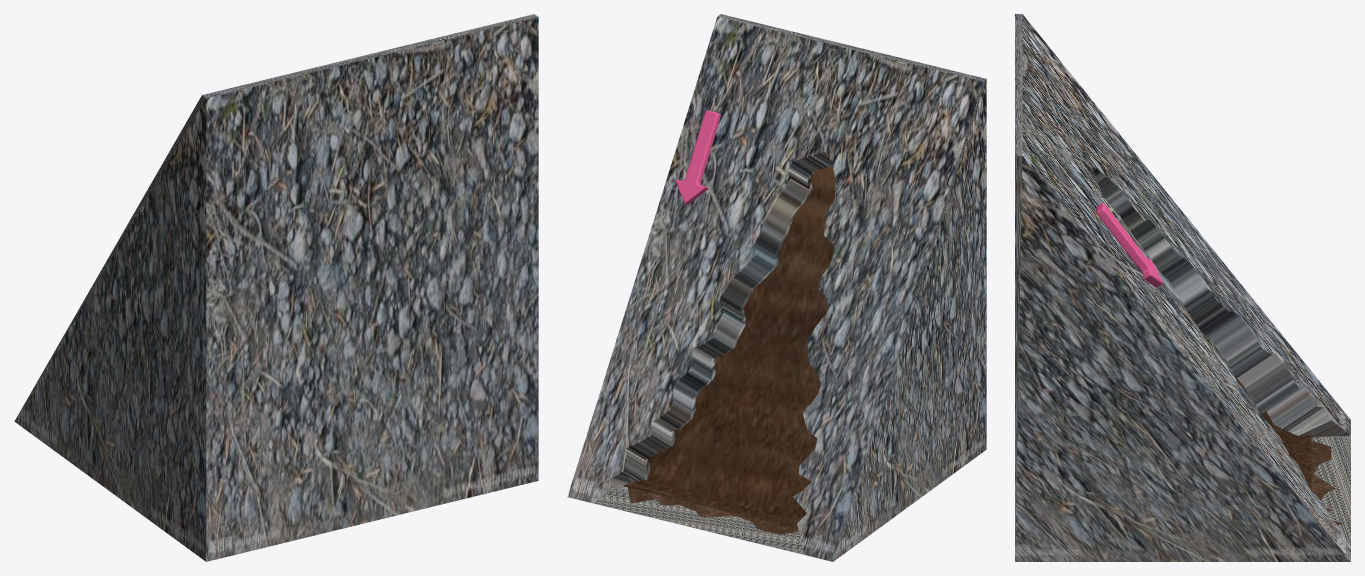
The model's file is 山坡型泥石流.gltf.
The picture shows the model from 3 angles, left to right: view 1: azimuth 30°, elevation 25°; view 2: azimuth 150°, elevation 25°; view 3: azimuth 270°, elevation 25°; orthographic projection. The views are drawn at different scales.
Parts seen in each view (by area): view 1: node_Box001_-67610; view 2: node_Box001_-67610, node_001_-67612, node_arrow_1_-67614, node_Plane002_-67608; view 3: node_Box001_-67610, node_arrow_1_-67614, node_001_-67612, node_Plane002_-67608.
Boxes of the visible parts, left/top/right/bottom form: node_Box001_-67610: left=14, top=14, right=538, bottom=561; node_Box001_-67610: left=567, top=14, right=986, bottom=561; node_001_-67612: left=623, top=166, right=834, bottom=528; node_arrow_1_-67614: left=675, top=110, right=720, bottom=204; node_Plane002_-67608: left=627, top=481, right=798, bottom=534; node_Box001_-67610: left=1015, top=14, right=1350, bottom=561; node_arrow_1_-67614: left=1096, top=203, right=1163, bottom=287; node_001_-67612: left=1236, top=378, right=1311, bottom=490; node_Plane002_-67608: left=1311, top=441, right=1342, bottom=525.
Bounding box in the file's own units: 0.762 × 1.02 × 0.762.
